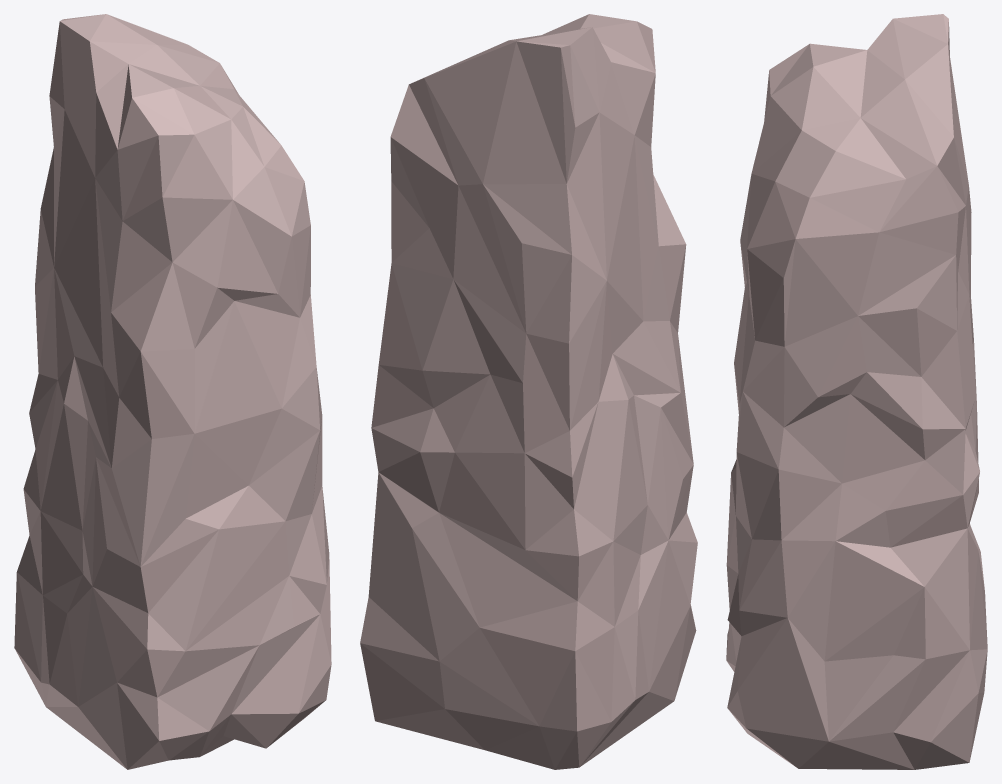
Rendered from rockEntranceL.fbx.
3 views of the same model, side by side, from view 1: azimuth 30°, elevation 25°; view 2: azimuth 150°, elevation 25°; view 3: azimuth 270°, elevation 25° (orthographic). The views are drawn at different scales.
Parts seen in each view (by area): view 1: ruins_Entrance_L; view 2: ruins_Entrance_L; view 3: ruins_Entrance_L.
Part boxes in pixels (x1,y1,x2,y2): ruins_Entrance_L: (14, 14, 331, 769); ruins_Entrance_L: (360, 14, 697, 769); ruins_Entrance_L: (726, 14, 987, 769).
Size of the model in its own units: 1.7 by 4.86 by 1.71.
